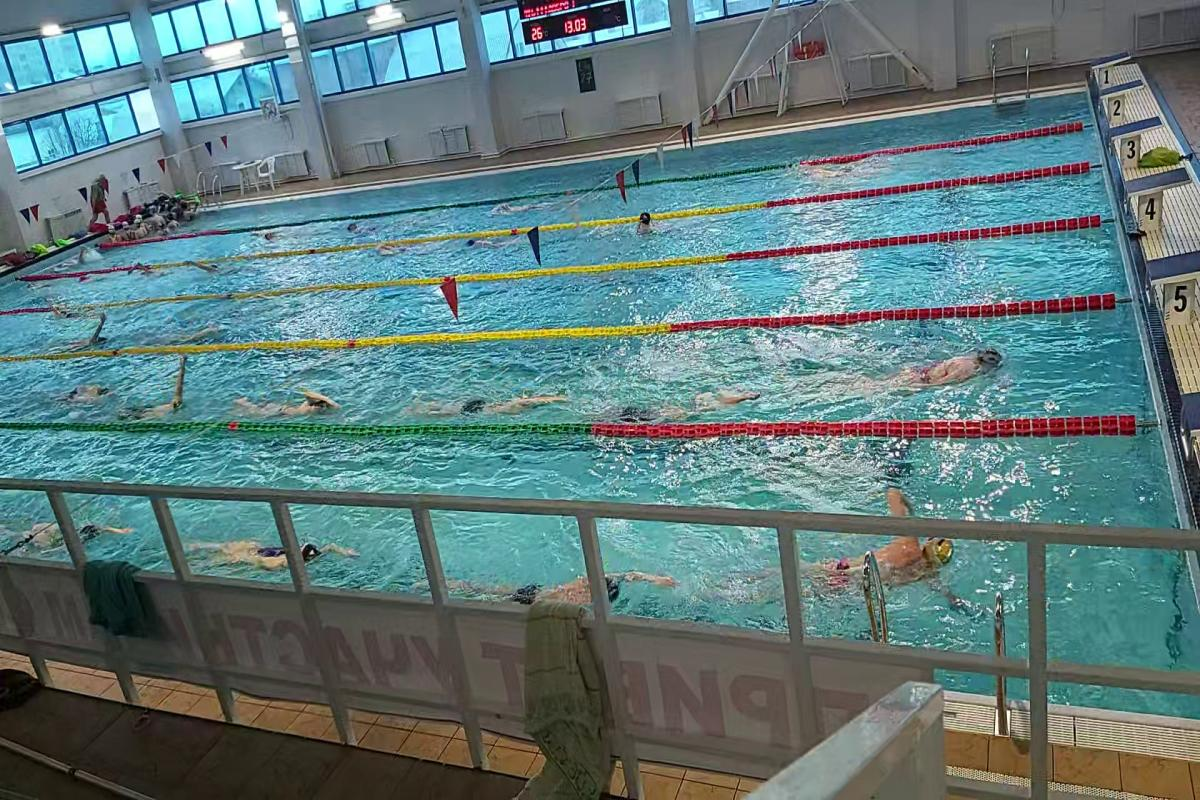swimmer: (777, 506, 953, 606), (828, 334, 1013, 399), (457, 562, 670, 607), (184, 524, 361, 577), (13, 497, 144, 562), (398, 384, 571, 420), (594, 389, 760, 423), (232, 381, 346, 420), (129, 360, 196, 420), (62, 375, 121, 407), (792, 160, 879, 178), (184, 250, 239, 278), (172, 318, 227, 344), (73, 316, 113, 347), (487, 194, 555, 212), (337, 214, 390, 236), (627, 210, 662, 243), (247, 223, 299, 241), (458, 236, 526, 248)
